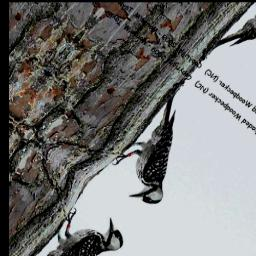Woodpecker: (100, 84, 228, 215)
